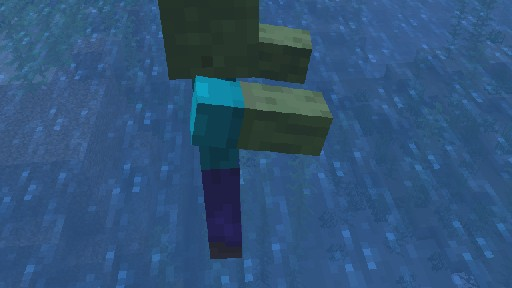zombie: (154, 0, 333, 258)
